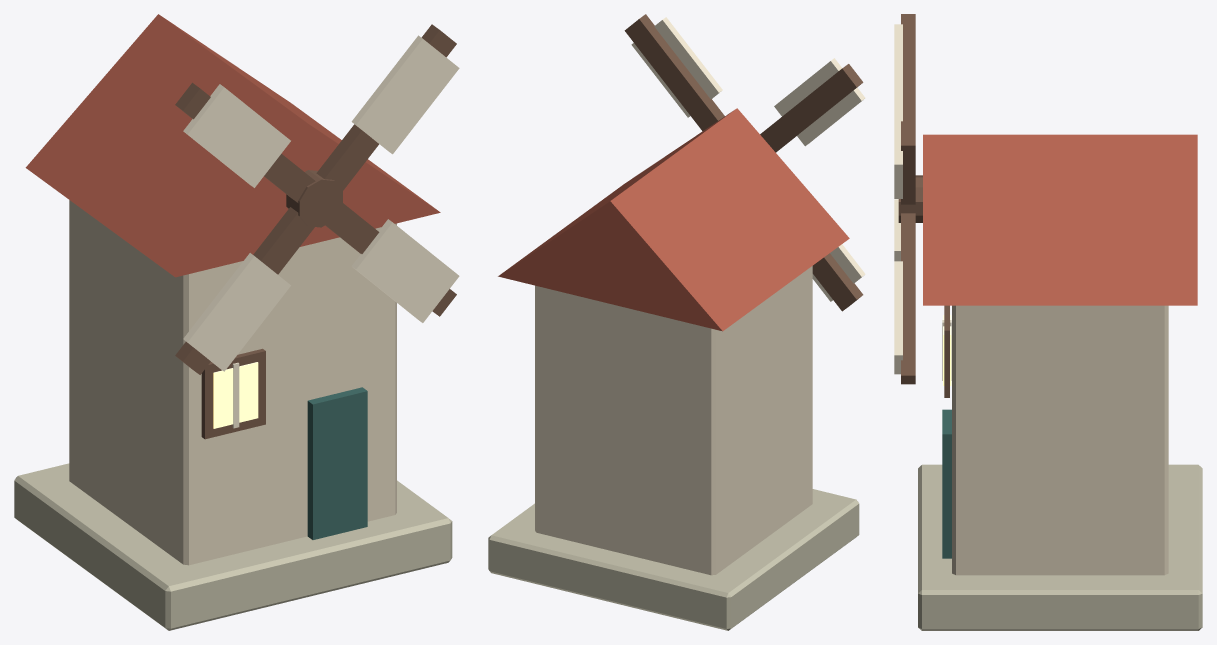
File: windmill.glb
3 renders of one model, left to right at view 1: azimuth 30°, elevation 25°; view 2: azimuth 150°, elevation 25°; view 3: azimuth 270°, elevation 25°, orthographic. The views are drawn at different scales.
Visible parts, largest first — view 1: Windmill walls, Windmill roof, Windmill plinth, Door, Sail cloth_0, Sail cloth_2, Sail cloth_1, Sail cloth_3, Sail arm_2, Sail arm_0, Warm window, Window frame (+3 smaller); view 2: Windmill walls, Windmill roof, Windmill plinth, Sail arm_0, Sail arm_3, Sail cloth_3, Sail cloth_0, Sail arm_2, Sail cloth_2; view 3: Windmill walls, Windmill roof, Windmill plinth, Sail arm_1, Door, Sail arm_3, Sail arm_0, Sail cloth_1, Sail cloth_3, Sail cloth_0, Axle, Window frame.
Part boxes in pixels (left/top/right/bottom): Windmill walls: left=69, top=200, right=396, bottom=565; Windmill roof: left=25, top=14, right=440, bottom=277; Windmill plinth: left=14, top=463, right=452, bottom=630; Door: left=307, top=387, right=367, bottom=539; Sail cloth_0: left=351, top=35, right=459, bottom=154; Sail cloth_2: left=183, top=253, right=290, bottom=371; Sail cloth_1: left=351, top=219, right=459, bottom=322; Sail cloth_3: left=183, top=84, right=290, bottom=187; Sail arm_2: left=175, top=207, right=314, bottom=374; Sail arm_0: left=316, top=24, right=456, bottom=190; Warm window: left=213, top=362, right=258, bottom=428; Window frame: left=201, top=348, right=265, bottom=439; Windmill walls: left=535, top=266, right=812, bottom=575; Windmill roof: left=498, top=108, right=849, bottom=331; Windmill plinth: left=488, top=489, right=859, bottom=630; Sail arm_0: left=624, top=14, right=724, bottom=131; Sail arm_3: left=760, top=64, right=863, bottom=152; Sail cloth_3: left=774, top=58, right=865, bottom=146; Sail cloth_0: left=631, top=17, right=722, bottom=117; Sail arm_2: left=812, top=253, right=863, bottom=311; Sail cloth_2: left=812, top=244, right=865, bottom=301; Windmill walls: left=952, top=305, right=1168, bottom=575; Windmill roof: left=923, top=134, right=1197, bottom=305; Windmill plinth: left=918, top=464, right=1202, bottom=630; Sail arm_1: left=901, top=213, right=915, bottom=384; Door: left=942, top=409, right=951, bottom=558; Sail arm_3: left=901, top=14, right=915, bottom=121; Sail arm_0: left=901, top=121, right=915, bottom=204; Sail cloth_1: left=894, top=261, right=902, bottom=374; Sail cloth_3: left=894, top=24, right=902, bottom=112; Sail cloth_0: left=894, top=113, right=902, bottom=198; Axle: left=898, top=175, right=922, bottom=222; Window frame: left=944, top=305, right=949, bottom=397.
Bounding box in the file's own units: 0.94 × 1.71 × 0.953.
